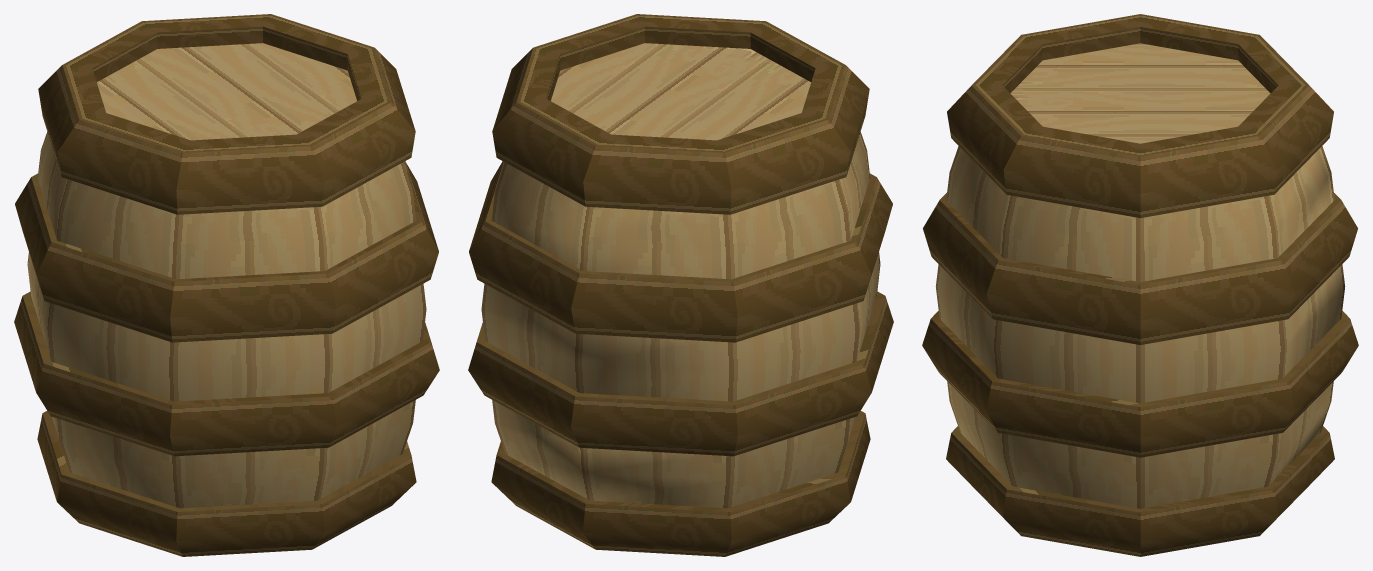
The model's file is Barrel.obj.
3 views of the same model, side by side, from view 1: azimuth 30°, elevation 25°; view 2: azimuth 150°, elevation 25°; view 3: azimuth 270°, elevation 25° (orthographic).
Visible parts, largest first — view 1: mesh-0, mesh-1; view 2: mesh-0, mesh-1; view 3: mesh-0, mesh-1.
Boxes of the visible parts, left/top/right/bottom form: mesh-0: left=14, top=14, right=439, bottom=556; mesh-1: left=27, top=43, right=426, bottom=508; mesh-0: left=468, top=14, right=893, bottom=556; mesh-1: left=481, top=43, right=880, bottom=508; mesh-0: left=922, top=14, right=1358, bottom=556; mesh-1: left=935, top=43, right=1345, bottom=508.
Size of the model in its own units: 2.03 by 2.05 by 2.03.
2 materials, 2 textured.
